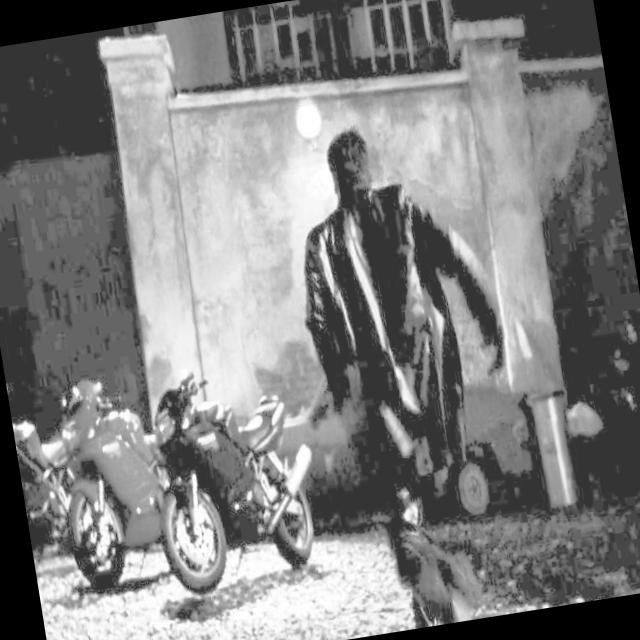Motorcycle: (126, 362, 325, 622), (41, 368, 176, 596), (3, 359, 82, 618)
